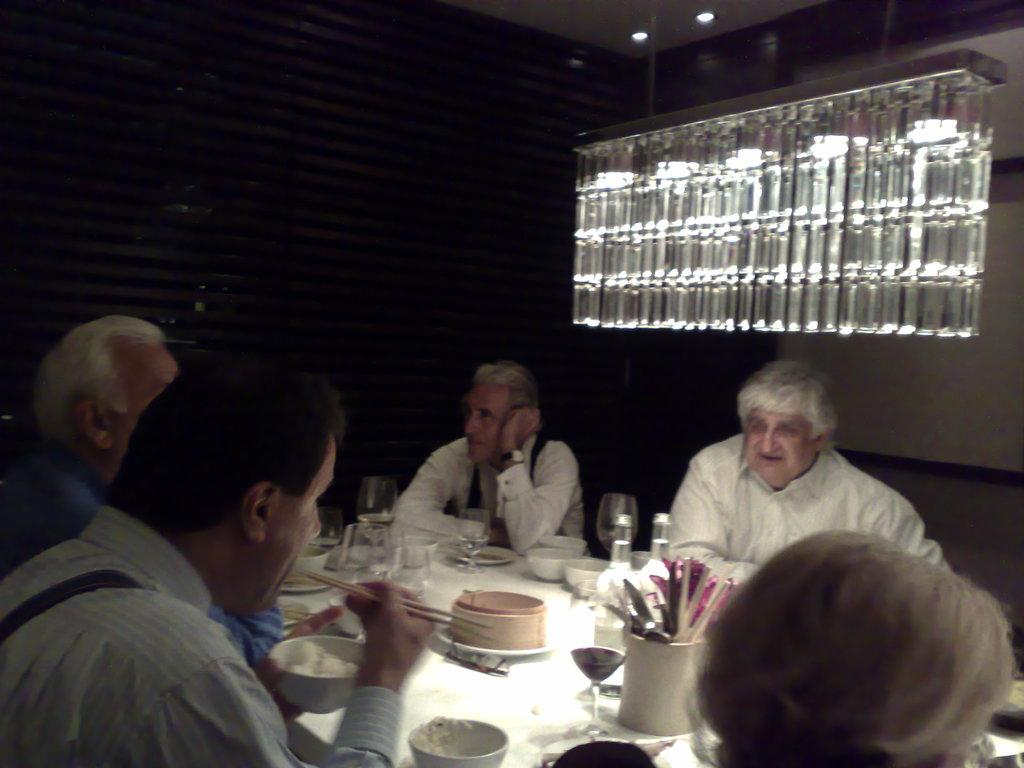Sem Máscara: (257, 440, 331, 613), (108, 337, 180, 480), (741, 407, 814, 480), (461, 382, 505, 463)
